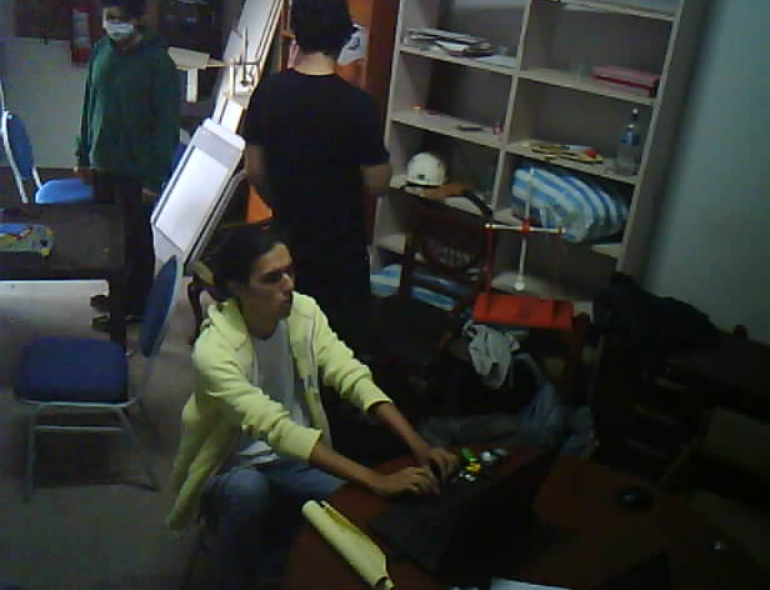person: (144, 221, 466, 584), (232, 0, 391, 344), (67, 1, 190, 365)
